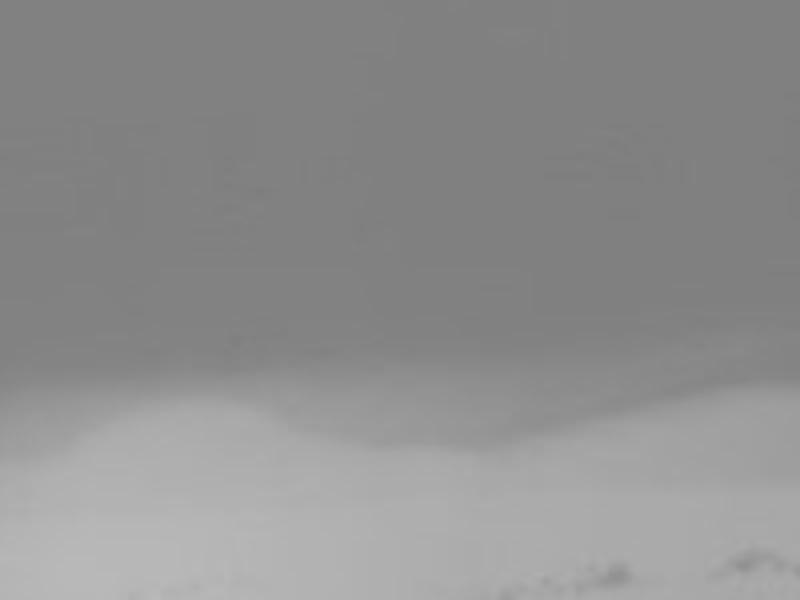defect: (540, 568, 586, 600), (595, 556, 629, 586), (735, 546, 764, 575), (706, 556, 733, 582), (495, 579, 525, 600), (777, 558, 800, 576)
